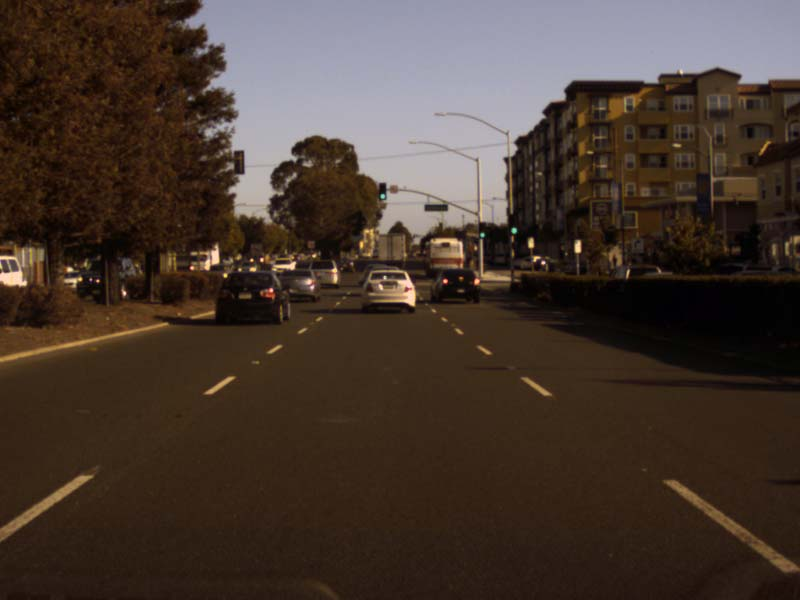Green: (508, 214, 518, 234), (378, 182, 386, 199), (478, 221, 485, 238)
